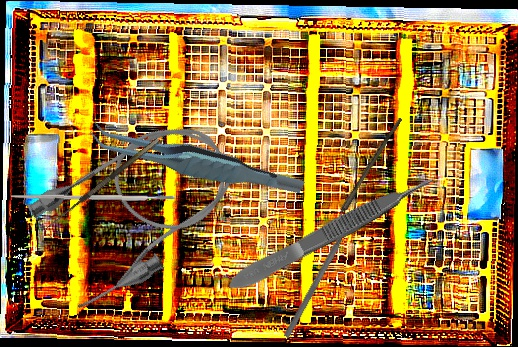Cannula: (16, 100, 257, 319)
Hook Surgical: (42, 137, 165, 238)
Pusher: (282, 207, 361, 340)
Scalpel Handle: (10, 192, 176, 203)
Surgical Spoon: (320, 115, 403, 246)
Tissue Forceps: (85, 82, 307, 239), (223, 169, 443, 296)
